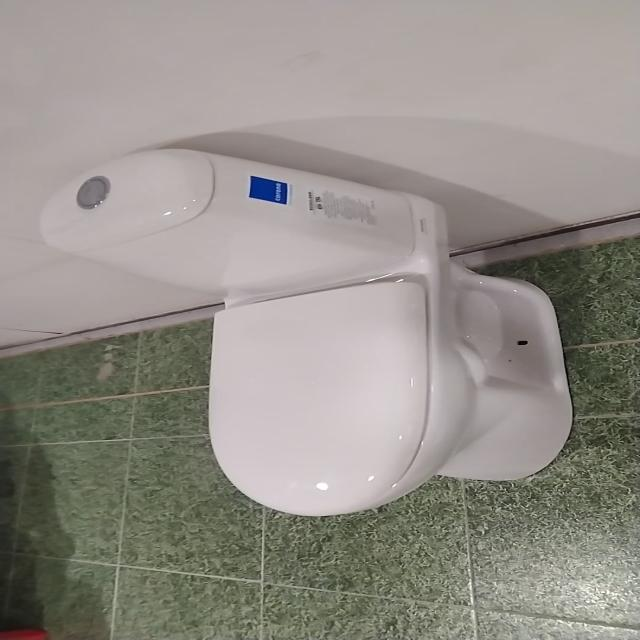toilet: (38, 146, 575, 517)
